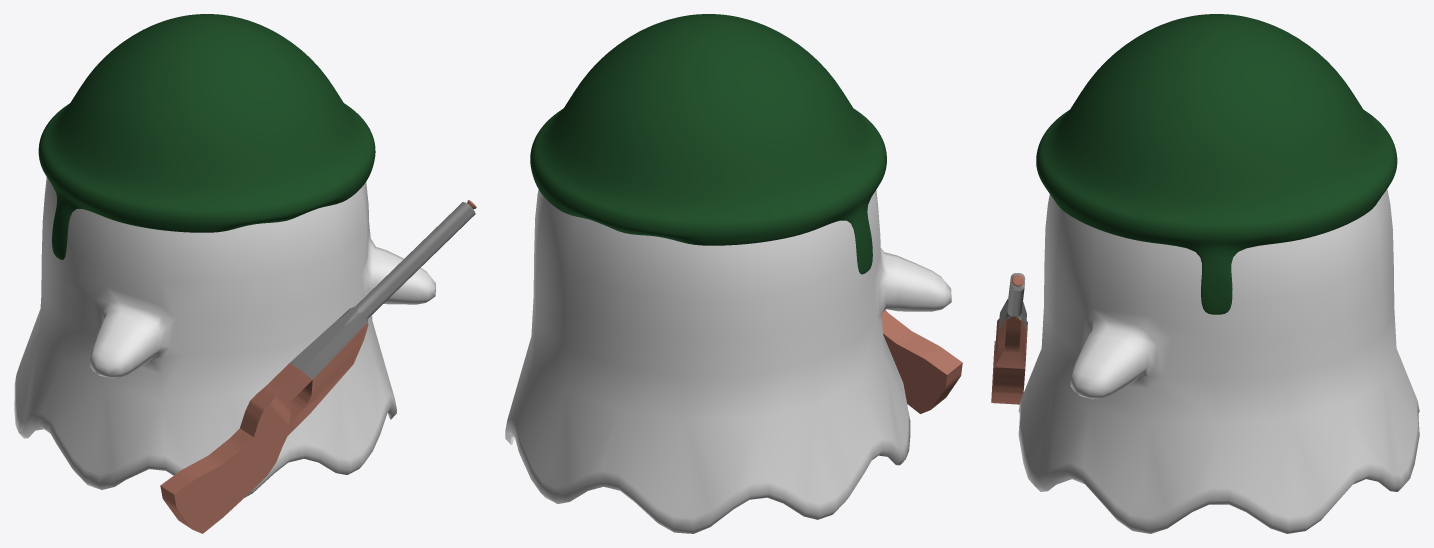
File: ArmyGhost.fbx
3 views of the same model, side by side, from view 1: azimuth 30°, elevation 25°; view 2: azimuth 150°, elevation 25°; view 3: azimuth 270°, elevation 25° (orthographic). The views are drawn at different scales.
Parts seen in each view (by area): view 1: Body, Sphere.001, Plane; view 2: Body, Sphere.001, Plane; view 3: Body, Sphere.001, Plane.
Boxes of the visible parts, x1=… form: Body: x1=14, y1=177, x2=435, y2=497; Sphere.001: x1=38, y1=14, x2=375, y2=259; Plane: x1=160, y1=202, x2=475, y2=533; Body: x1=505, y1=189, x2=951, y2=533; Sphere.001: x1=530, y1=14, x2=886, y2=274; Plane: x1=881, y1=310, x2=962, y2=413; Body: x1=1018, y1=189, x2=1419, y2=533; Sphere.001: x1=1036, y1=14, x2=1397, y2=314; Plane: x1=991, y1=273, x2=1027, y2=404.
Bounding box in the file's own units: 224 × 252 × 225.
